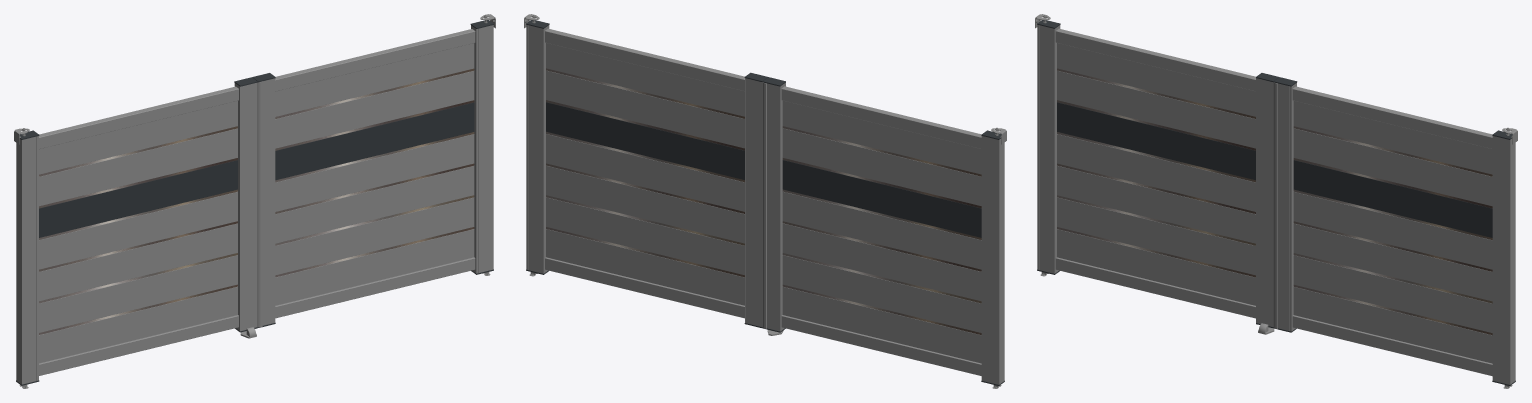
The picture shows the model from 3 angles, left to right: view 1: azimuth 30°, elevation 25°; view 2: azimuth 150°, elevation 25°; view 3: azimuth 330°, elevation 25°; orthographic projection.
Parts seen in each view (by area): view 1: Shape107412790, Shape107412796, Shape107412792, Shape107412798, Shape107412794, Shape170, Shape176, Shape184, Shape188, Shape180, Shape107412789, Shape1 (+23 smaller); view 2: Shape176, Shape170, Shape180, Shape184, Shape188, Shape107412790, Shape107412792, Shape107412796, Shape107412798, Shape107412794, Shape107412643, Shape1 (+23 smaller); view 3: Shape107412798, Shape107412792, Shape107412796, Shape107412790, Shape107412794, Shape176, Shape170, Shape188, Shape180, Shape184, Shape107412971, Shape107412789 (+23 smaller).
Part boxes in pixels (x1,y1,x2,y2): Shape107412790: (275,197,474,275); Shape107412796: (275,102,474,180); Shape107412792: (275,166,474,243); Shape107412798: (275,71,474,148); Shape107412794: (275,134,474,211); Shape170: (39,255,237,332); Shape176: (39,223,237,301); Shape184: (39,160,237,237); Shape188: (39,128,237,206); Shape180: (39,191,237,269); Shape107412789: (275,229,474,305); Shape1: (39,286,237,363); Shape176: (782,223,981,301); Shape170: (782,255,981,332); Shape180: (782,191,981,269); Shape184: (782,160,981,237); Shape188: (782,128,981,205); Shape107412790: (546,197,744,275); Shape107412792: (546,165,744,243); Shape107412796: (546,102,744,179); Shape107412798: (546,70,744,148); Shape107412794: (546,134,744,211); Shape107412643: (981,136,1004,384); Shape1: (782,287,981,363); Shape107412798: (1293,128,1492,206); Shape107412792: (1293,223,1492,301); Shape107412796: (1293,160,1492,237); Shape107412790: (1293,255,1492,332); Shape107412794: (1293,192,1492,269); Shape176: (1057,165,1255,243); Shape170: (1057,197,1255,275); Shape188: (1057,70,1255,148); Shape180: (1057,134,1255,211); Shape184: (1057,102,1255,180); Shape107412971: (1492,136,1515,384); Shape107412789: (1293,287,1492,363).
Size of the model in its own units: 3259 by 1693 by 116.
9 materials, 4 textured.
